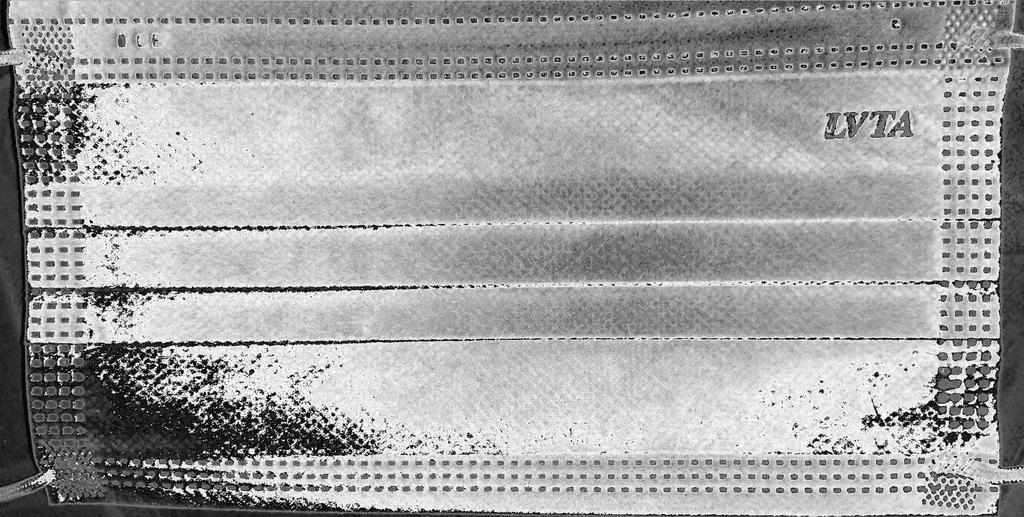High GSM: (14, 72, 1008, 455)
